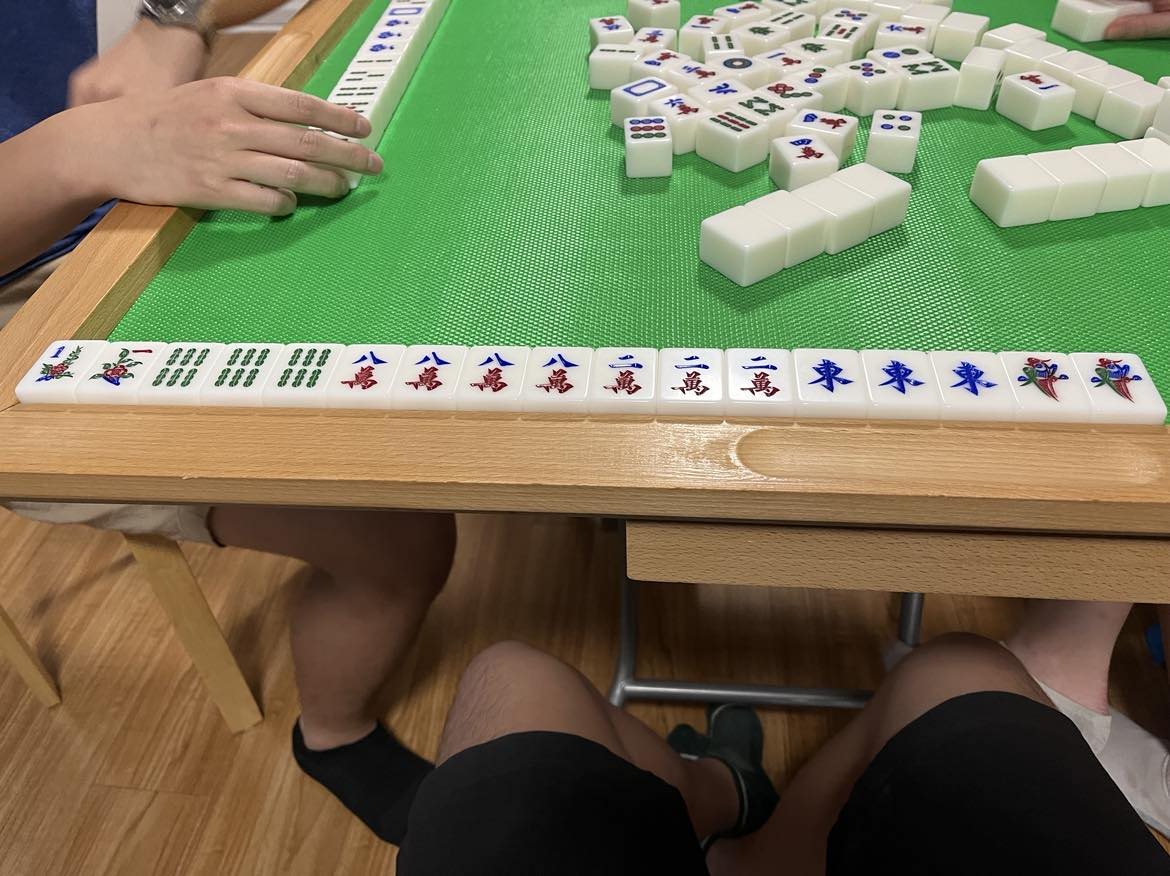bamboo-one: (1011, 351, 1073, 412), (1082, 352, 1145, 411)
bamboo-six: (273, 344, 333, 396), (152, 343, 209, 397), (216, 344, 274, 396)
character-eight: (463, 347, 519, 401), (402, 348, 453, 403), (338, 346, 388, 396), (530, 351, 581, 399)
character-two: (729, 351, 791, 411), (596, 347, 651, 403), (665, 349, 718, 401)
honor-east_wind: (800, 351, 860, 412), (939, 354, 1002, 409), (871, 355, 929, 409)
